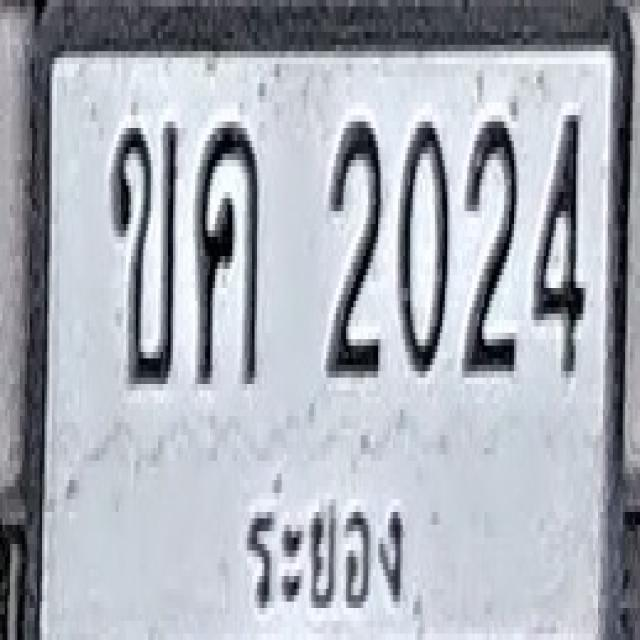0: (396, 115, 448, 371)
2: (326, 115, 381, 378), (463, 115, 518, 371)
4: (532, 109, 584, 371)
A02: (110, 122, 177, 384)
A04: (196, 122, 260, 384)
RYG: (242, 470, 416, 620)
